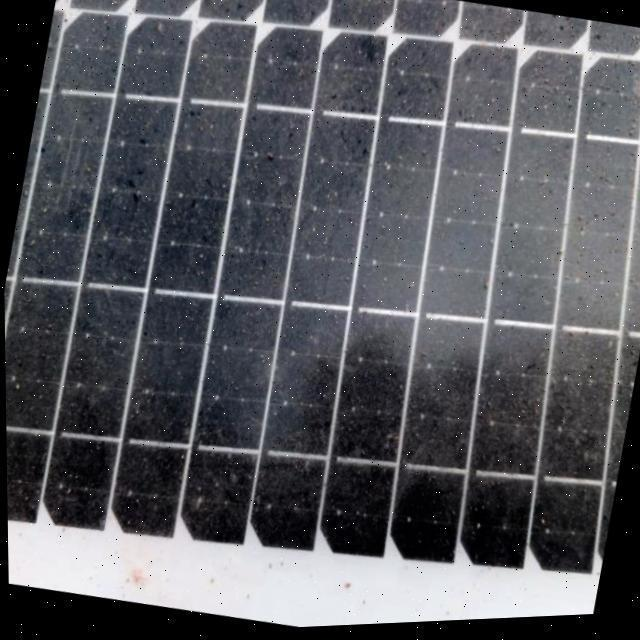Surface Contaminant: (5, 0, 640, 622)
